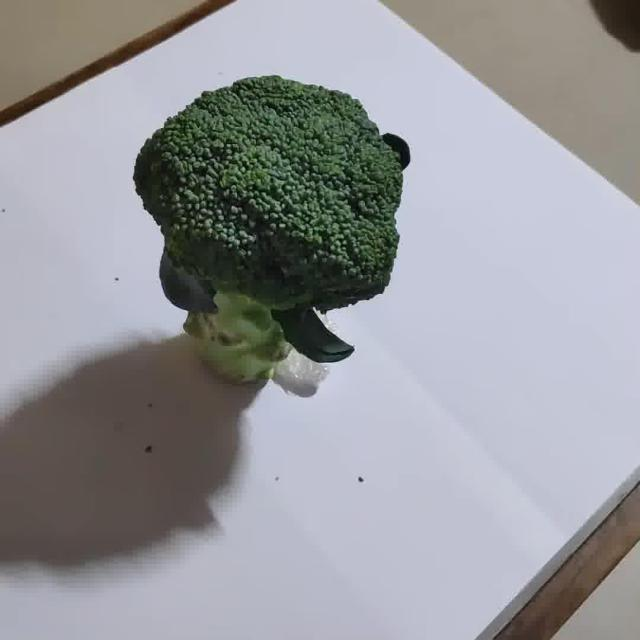Broccoli: (134, 76, 410, 388)
